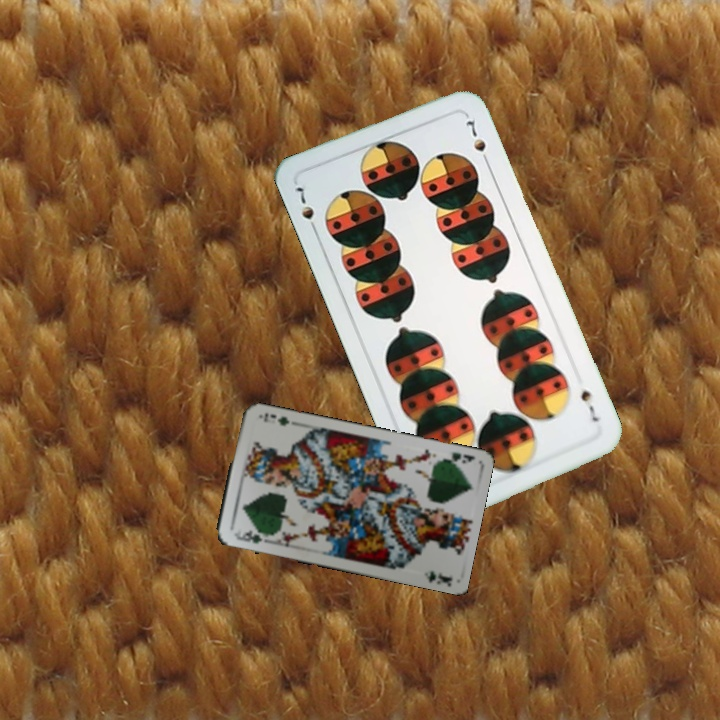GK: (230, 525, 270, 546), (436, 448, 478, 467)
S7: (290, 182, 320, 236), (576, 386, 601, 425)
